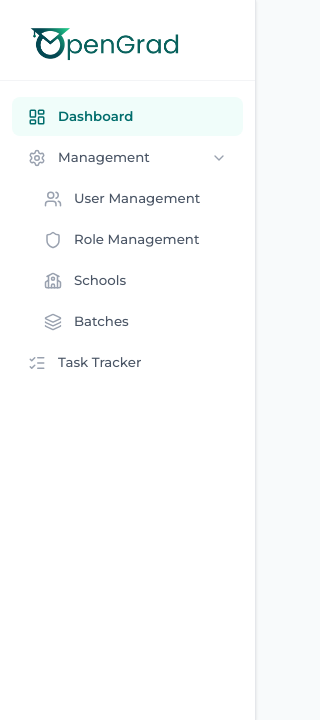
Test: Sidebar Management group › toggling the header persists open state under its own storage key
The width and height of the screenshot is (320, 720).
Click the button "Management". click: (128, 158)
box: [12,138,243,177]
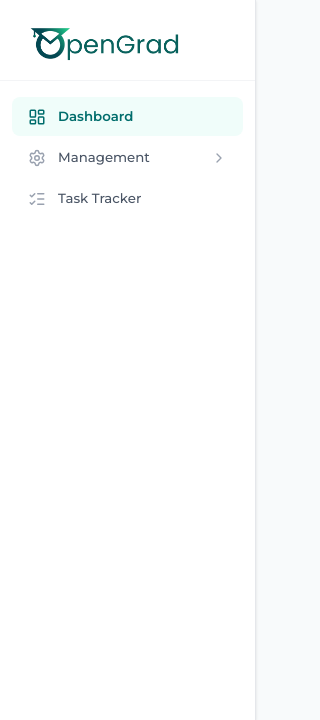
expect the button "Management" is collapsed: met, box [12,138,243,177]
